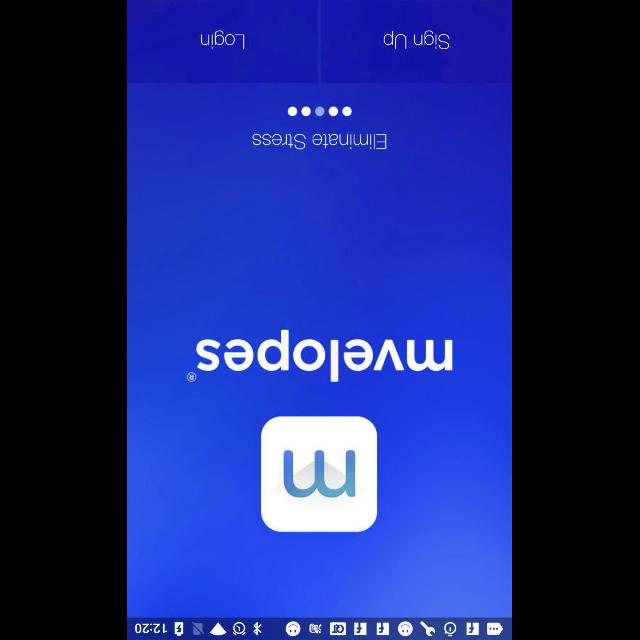image: (262, 416, 378, 532)
pageindicator: (288, 105, 354, 116)
text: (187, 330, 453, 382), (253, 133, 387, 149)
textbutton: (128, 0, 318, 84), (322, 0, 512, 82)
uppertaskbar: (128, 617, 512, 639)
